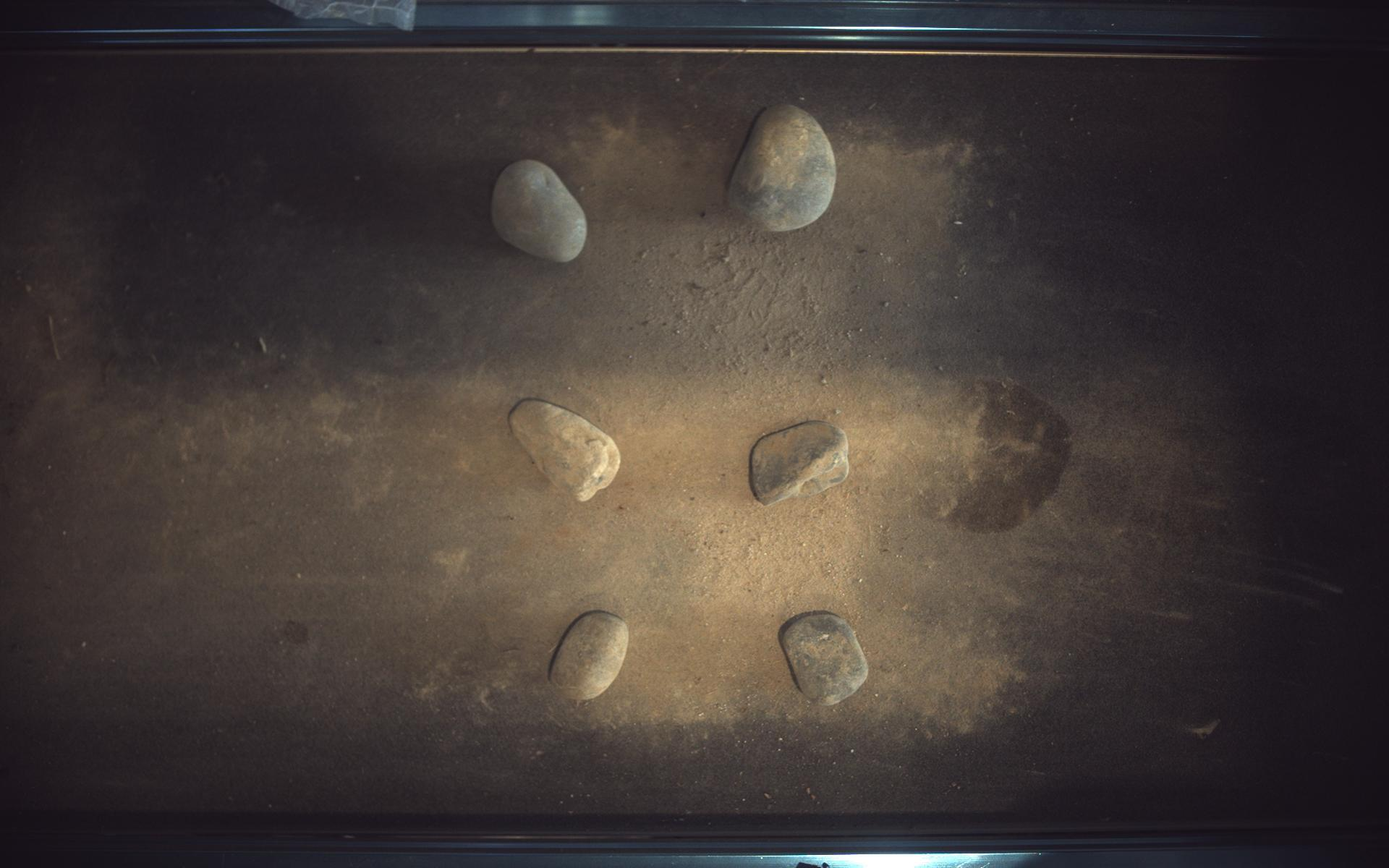stone: (729, 103, 838, 231), (509, 400, 621, 502), (492, 158, 587, 262), (780, 612, 870, 707), (751, 421, 851, 506), (549, 612, 629, 702)
